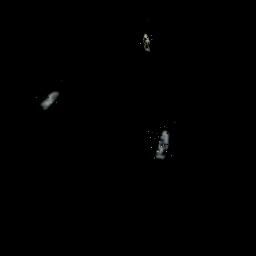boat: (146, 125, 174, 162), (34, 88, 62, 110), (138, 31, 155, 55)
